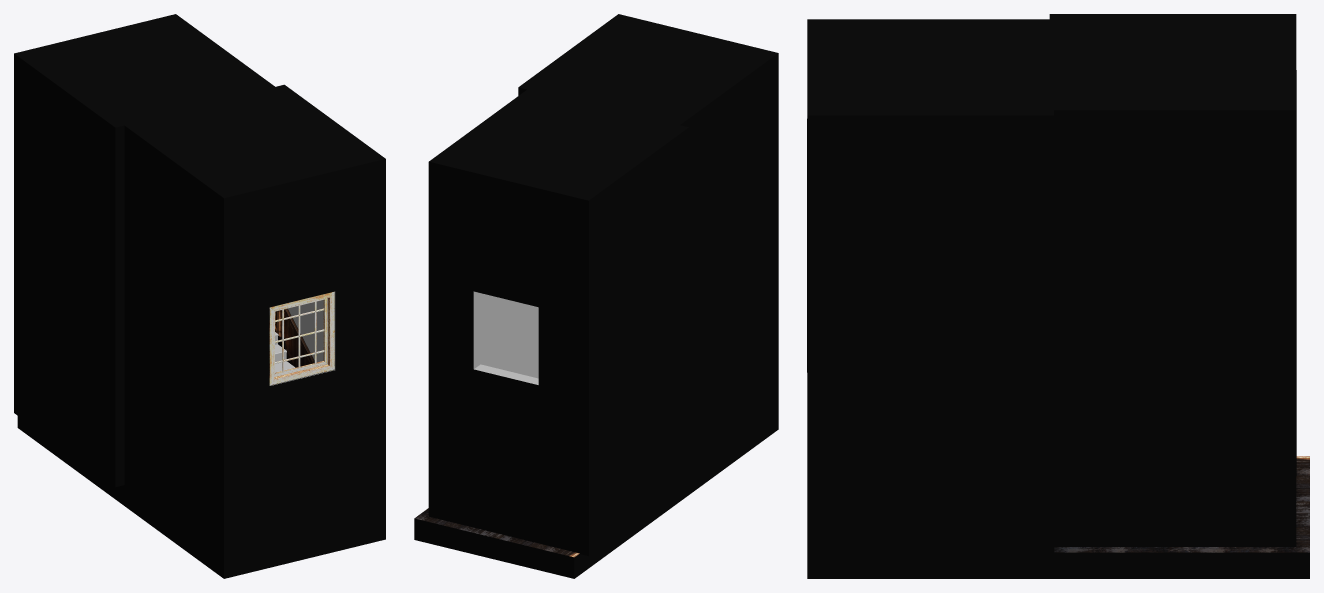
Rendered from Stairs.fbx.
3 renders of one model, left to right at view 1: azimuth 30°, elevation 25°; view 2: azimuth 150°, elevation 25°; view 3: azimuth 270°, elevation 25°, orthographic. The views are drawn at different scales.
Parts seen in each view (by area): view 1: brana 2 acoplada_baked; view 2: brana 2 acoplada_baked; view 3: brana 2 acoplada_baked.
Boxes of the visible parts, box(x1,y1,x2,y2) form: brana 2 acoplada_baked: box(14, 14, 385, 578); brana 2 acoplada_baked: box(414, 14, 778, 578); brana 2 acoplada_baked: box(807, 14, 1309, 578).
Bounding box in the file's own units: 345 × 733 × 721.
